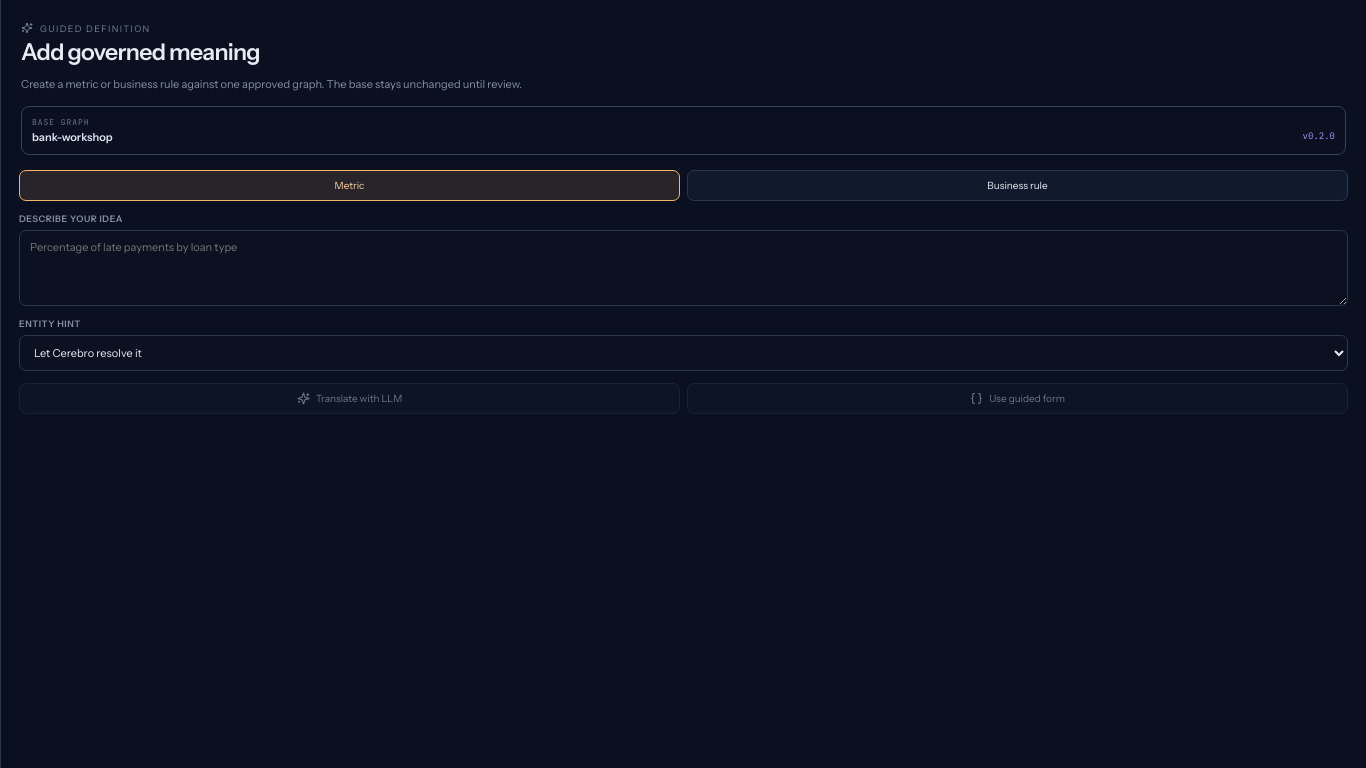
DefinitionComposer › scopes LLM translation to the selected approved graph
Type "Count distinct customers" into the text box named "Definition idea".
click(684, 268); type("Count distinct customers")  # box [19,230,1348,306]
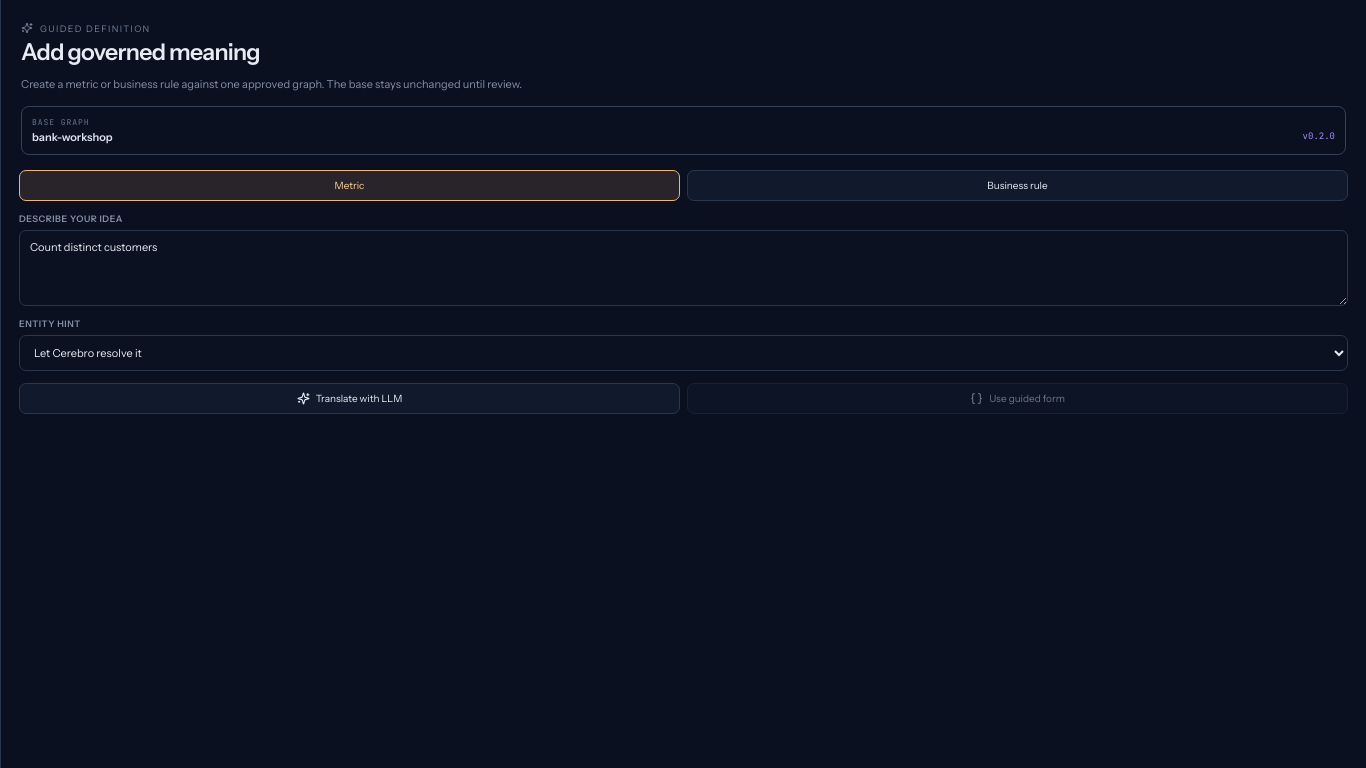
Click the button "Translate with LLM".
click(350, 398)  # box [19,383,680,414]
(page scrolled)
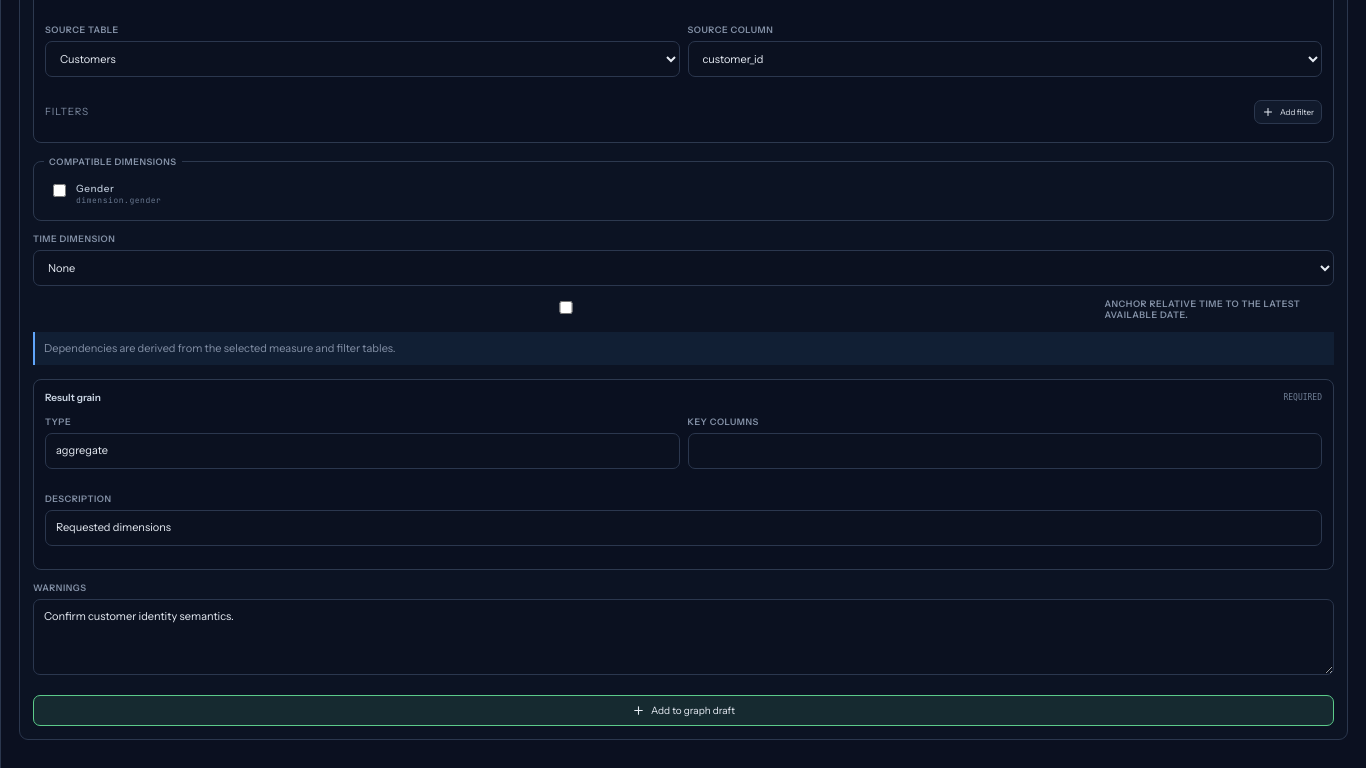
expect the text box labelled "Warnings" holds "Confirm customer identity semantics.": met, box [33,599,1334,675]
